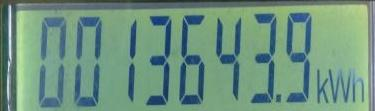.: (315, 66, 367, 108)
0: (274, 92, 283, 105)
1: (72, 14, 103, 108), (37, 16, 68, 108)
2: (122, 17, 140, 104)
4: (248, 12, 278, 105), (145, 15, 172, 106)
5: (213, 15, 245, 104)
7: (177, 15, 209, 107)
:: (285, 11, 314, 104)
